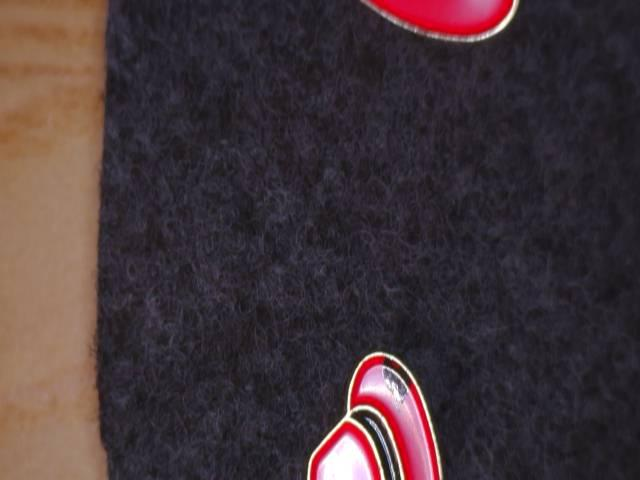Red-Hat: (273, 326, 460, 480)
Scratch: (366, 349, 432, 415)
